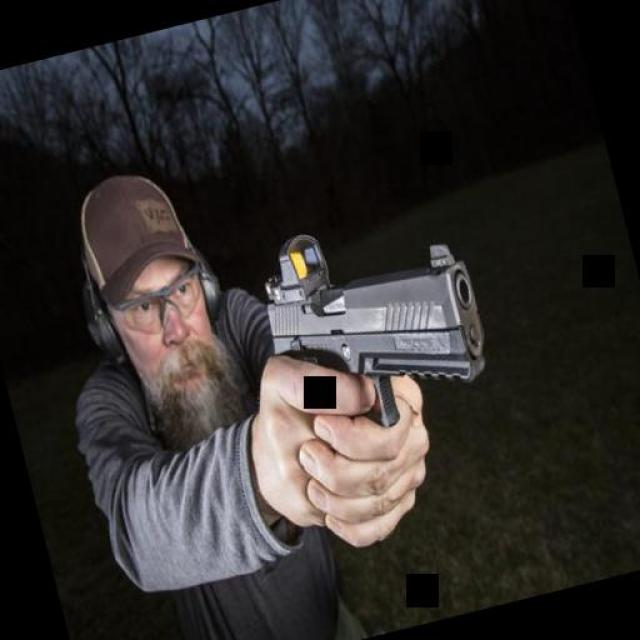gun: (215, 178, 515, 468)
